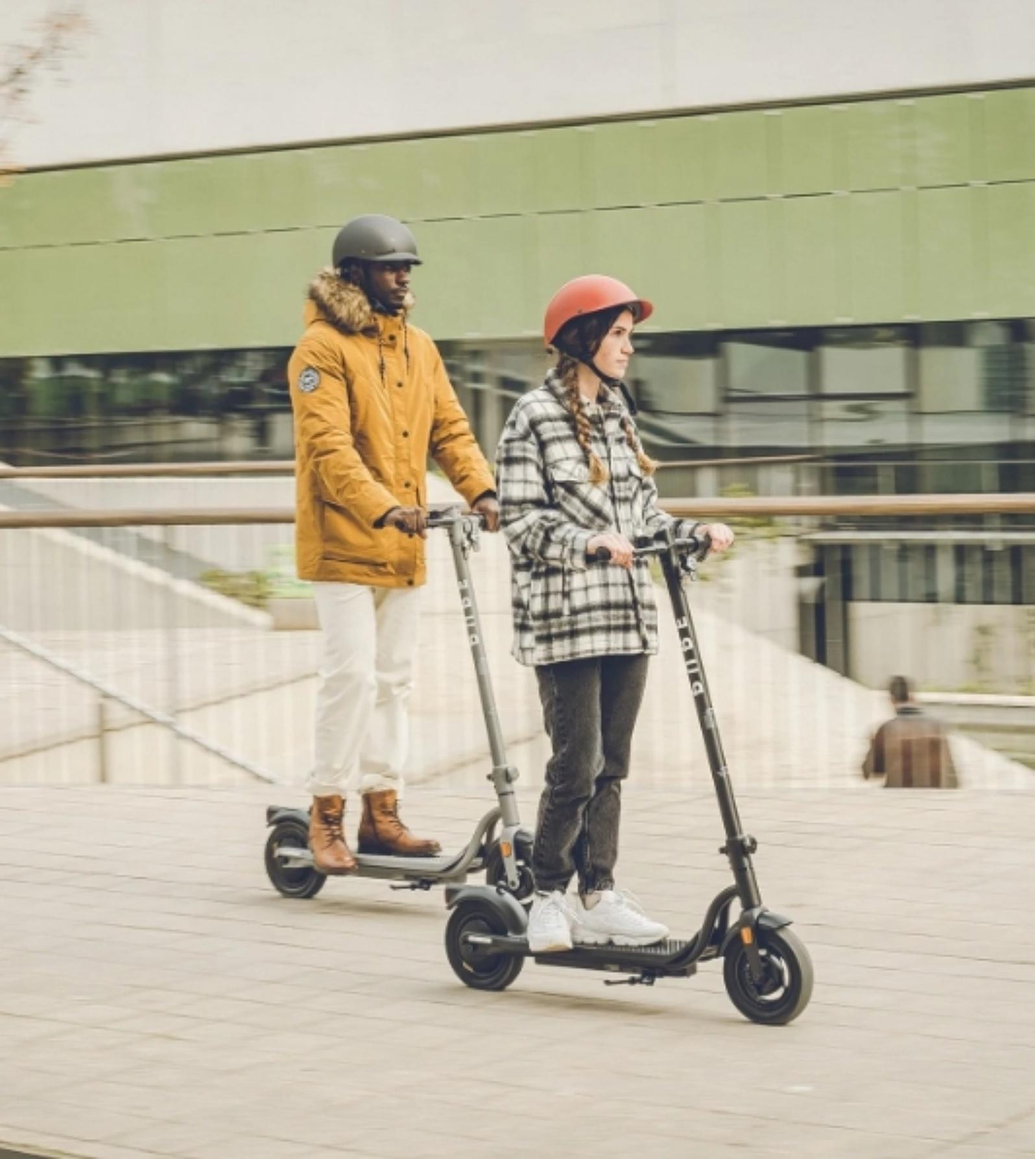helmet: (543, 280, 652, 398), (323, 215, 427, 326)
human: (495, 279, 724, 946), (295, 216, 498, 868)
kickboard: (419, 901, 821, 1026), (258, 809, 556, 898)
